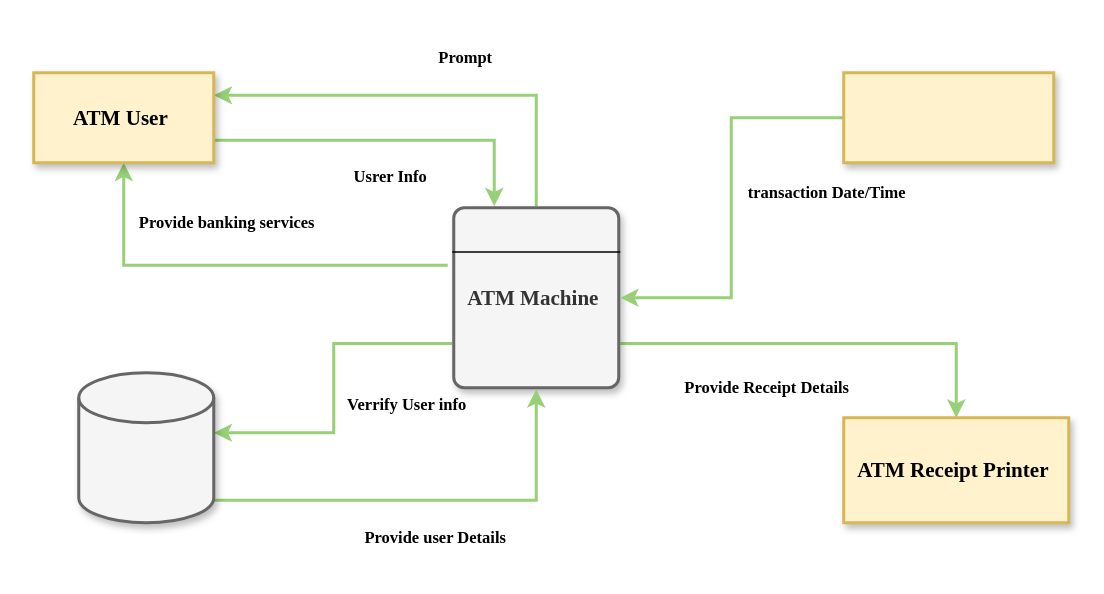
The diagram is 1104 pixels wide and 594 high, and some of its shapes have lost their labels. Here are the shapes that lost their labels. From the top down, the centre of each, then its label:
(x=950, y=119): ATM Clock
(x=147, y=449): Database
